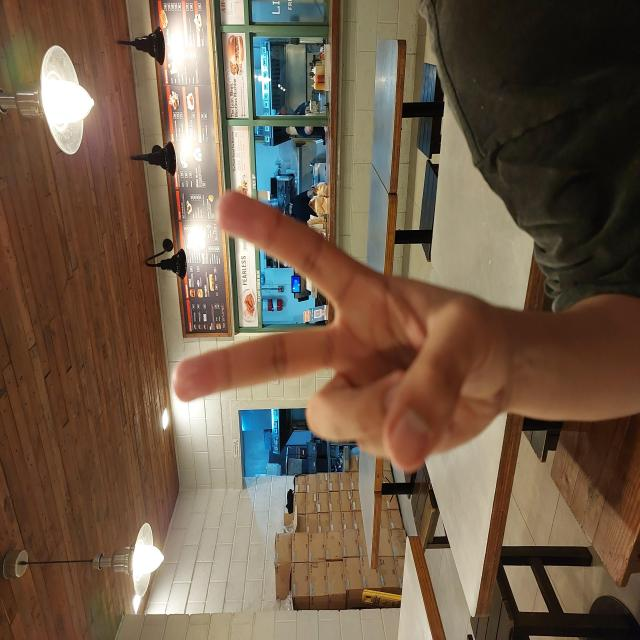V: (166, 172, 455, 509)
